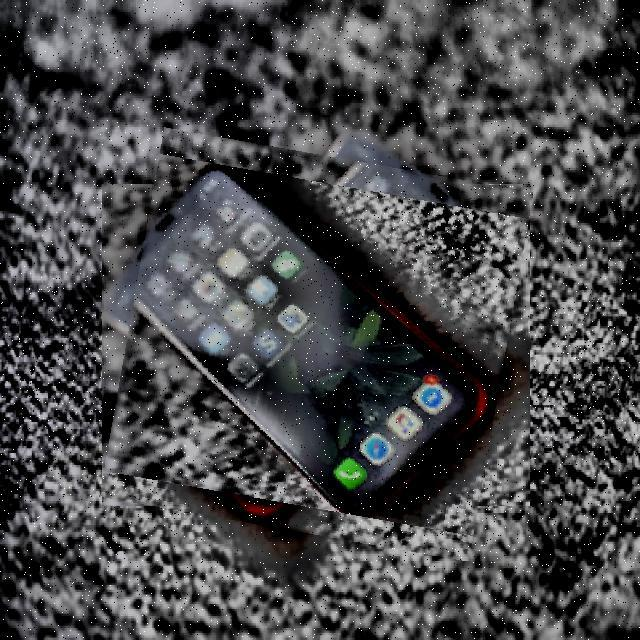Phone: (114, 142, 519, 547)
